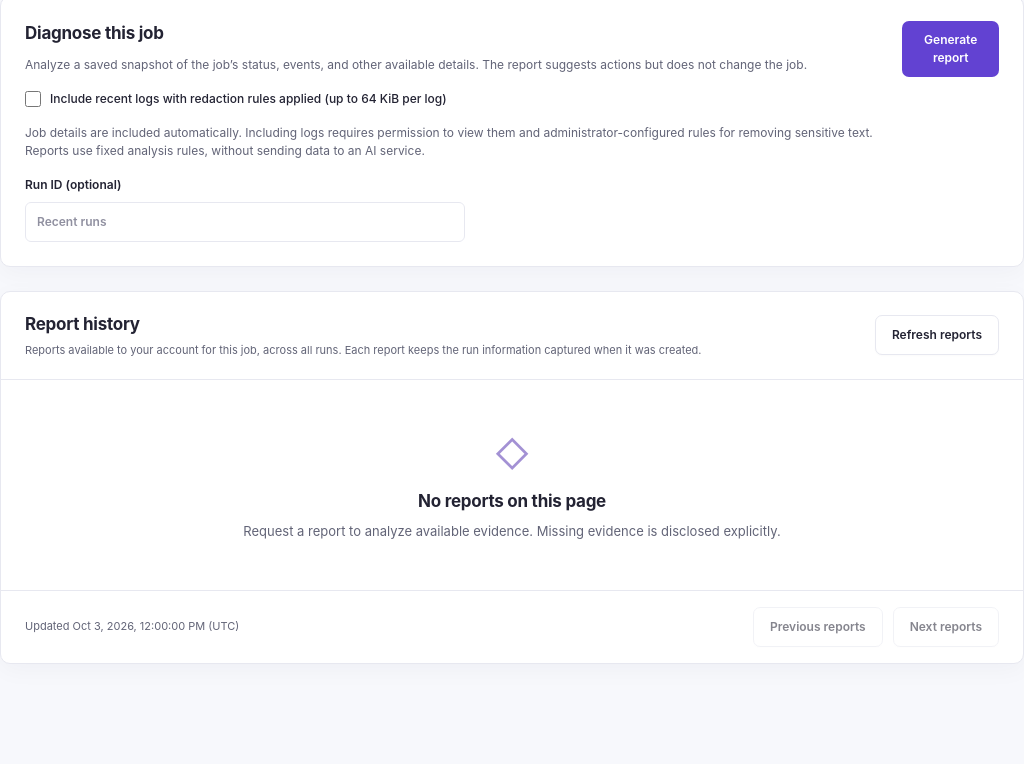
Scenario: uses the strict profile/run contract and retries an uncertain request with the same idempotency key
Expected: the heading "No reports on this page" is shown, [418, 490, 606, 510]
Click the checkbox. click: (33, 98)
box: [25, 90, 41, 106]
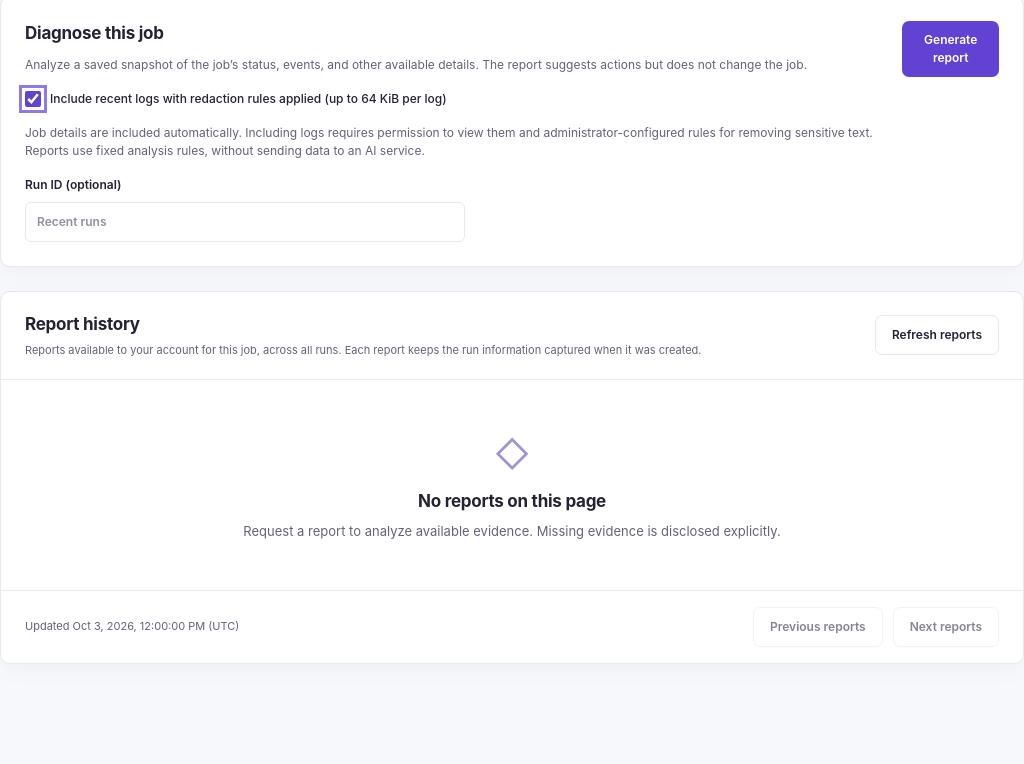
Type "79000000-0000-4000-8000-000000000001" into the field named "Report run ID". click: (245, 222)
box: [25, 202, 465, 242]
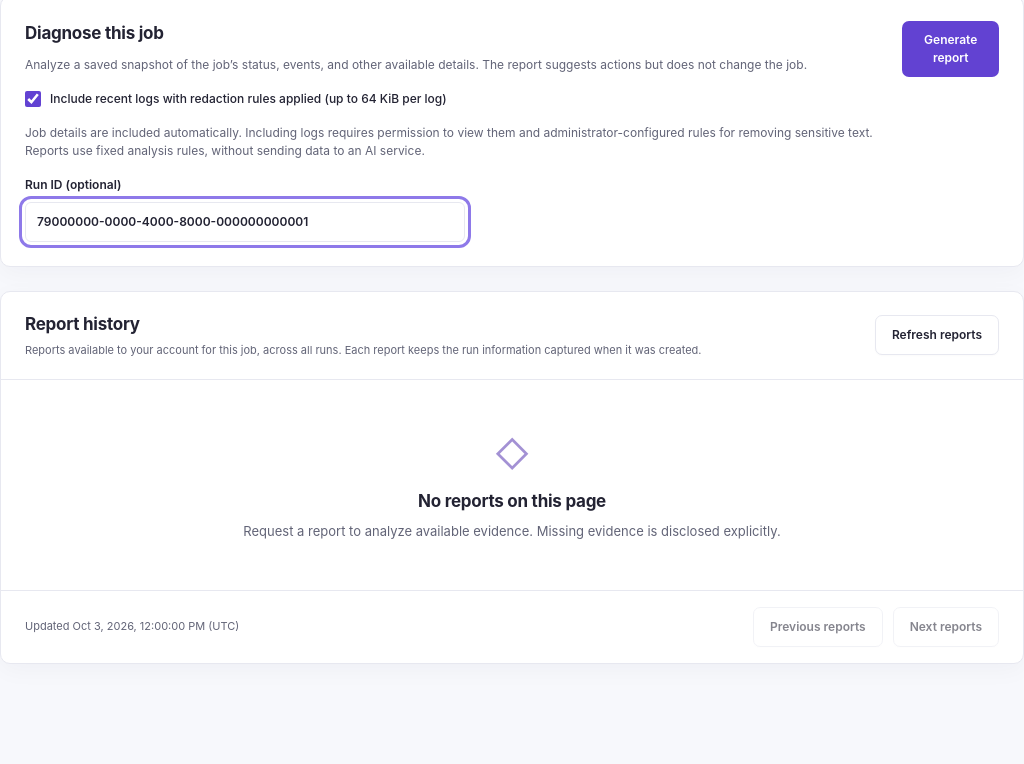
Click the button "Generate report". click: (951, 49)
box: [902, 21, 999, 77]
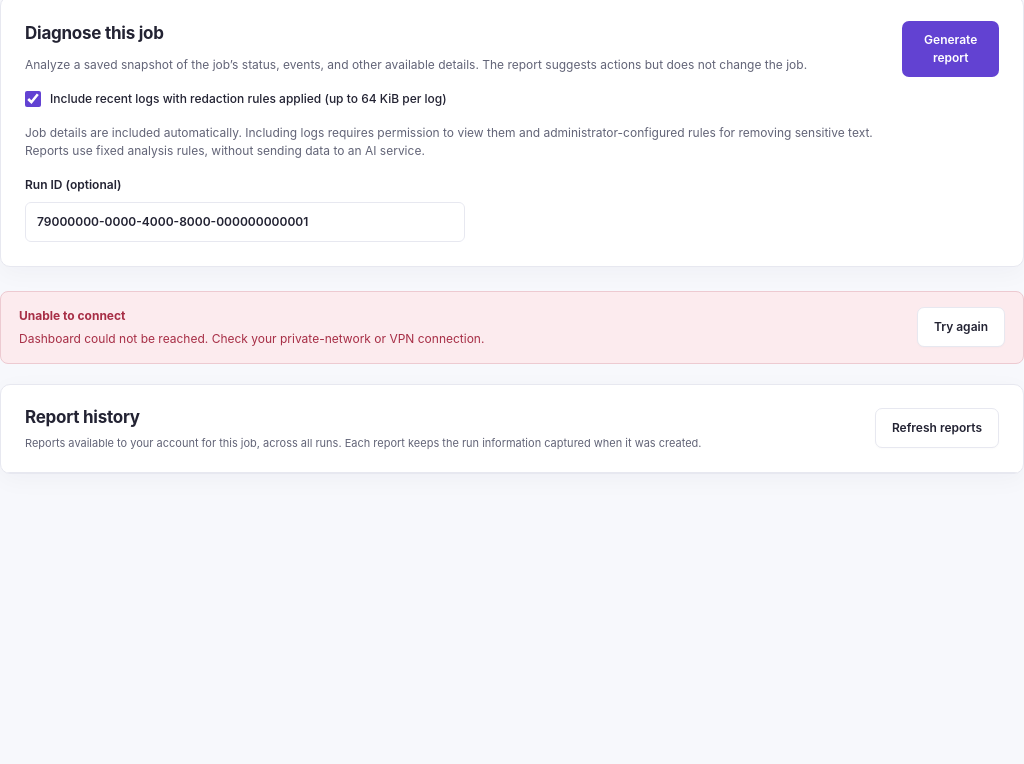
Expected: the message is shown, [0, 290, 1023, 364]
Click the button "Generate report". click: (951, 49)
box: [902, 21, 999, 77]
(page scrolled)
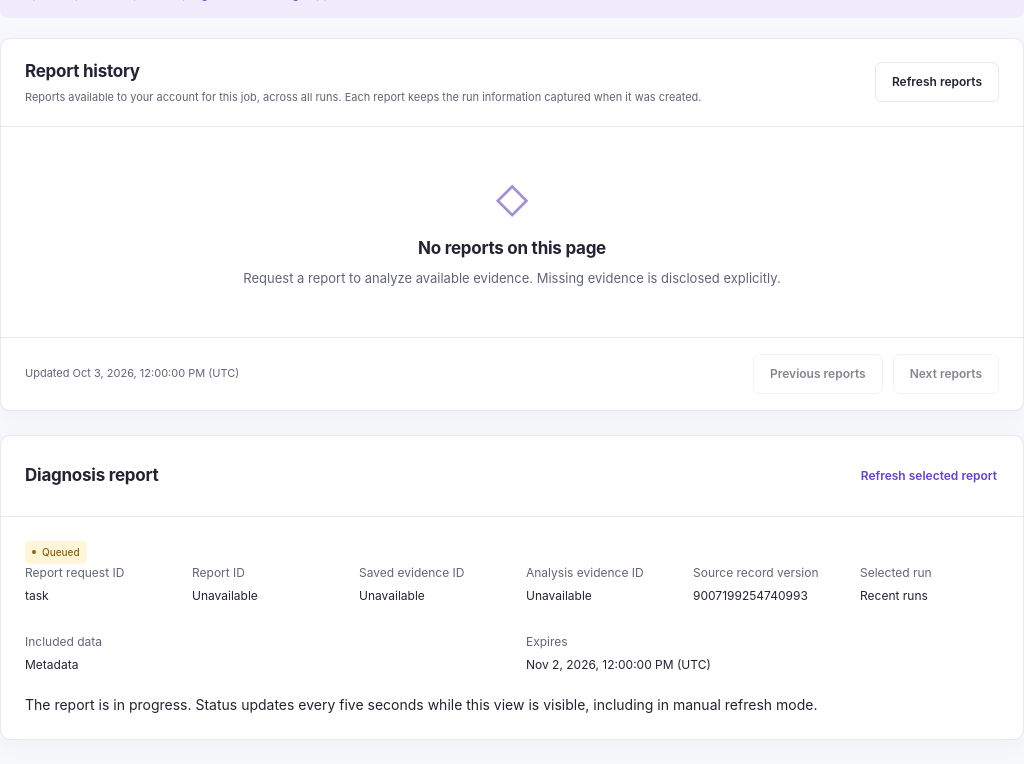
Expected: the text "report is in progress" is shown, [25, 696, 817, 713]
